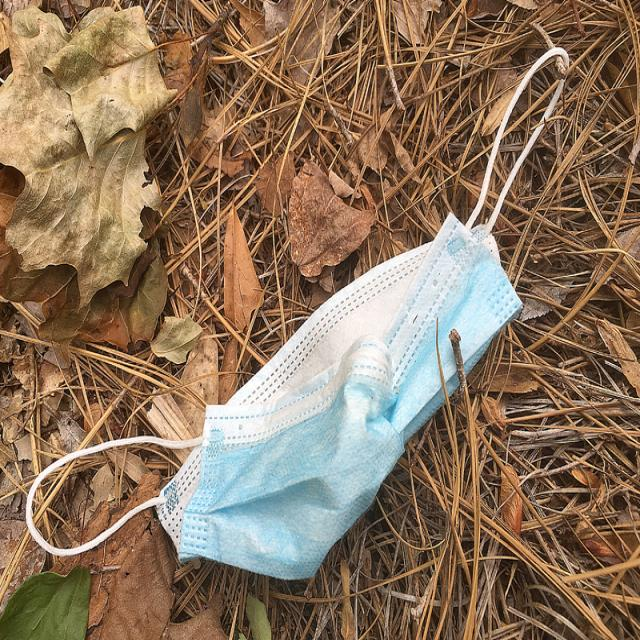non-organic waste: (18, 45, 571, 582)
